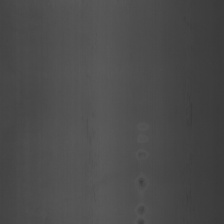oil_spot: (135, 116, 151, 219)
